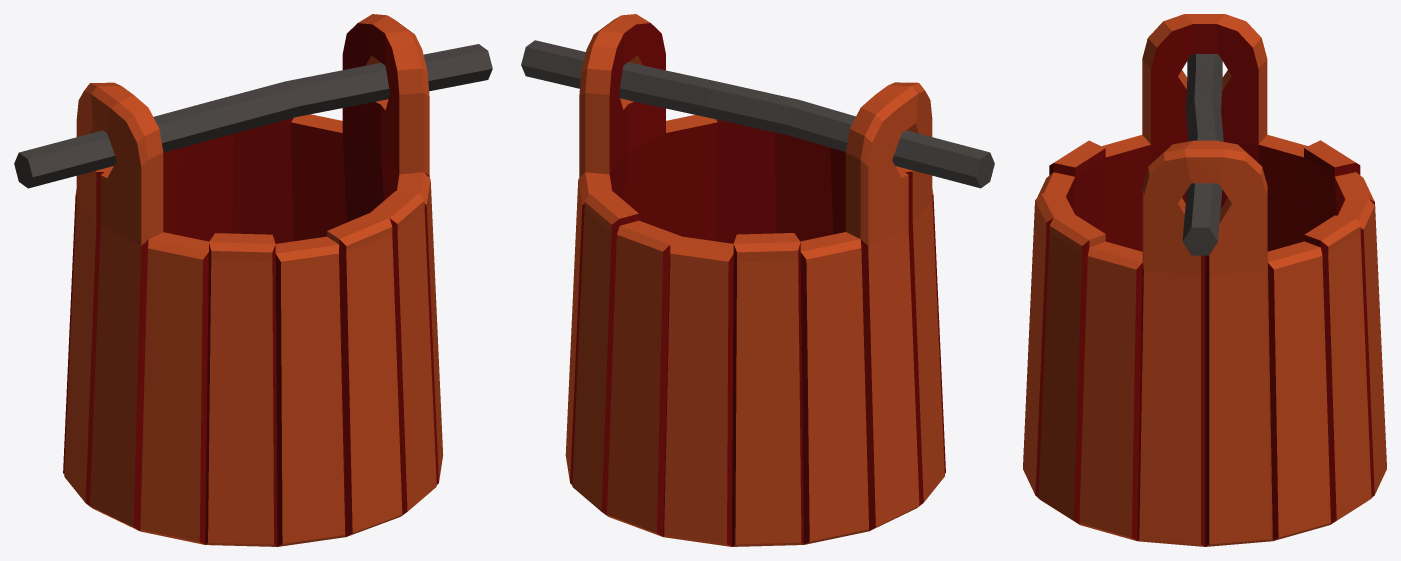
File: winter_castle_item14.glb
3 renders of one model, left to right at view 1: azimuth 30°, elevation 25°; view 2: azimuth 150°, elevation 25°; view 3: azimuth 270°, elevation 25°, orthographic. The views are drawn at different scales.
Visible parts, largest first — view 1: Item14_Medieval_0; view 2: Item14_Medieval_0; view 3: Item14_Medieval_0.
Part boxes in pixels (bbox=[...]): Item14_Medieval_0: bbox=[14, 14, 492, 546]; Item14_Medieval_0: bbox=[521, 14, 994, 546]; Item14_Medieval_0: bbox=[1023, 14, 1386, 546].
Bounding box in the file's own units: 0.2705 × 0.2318 × 0.1957.
1 material, 1 textured.
